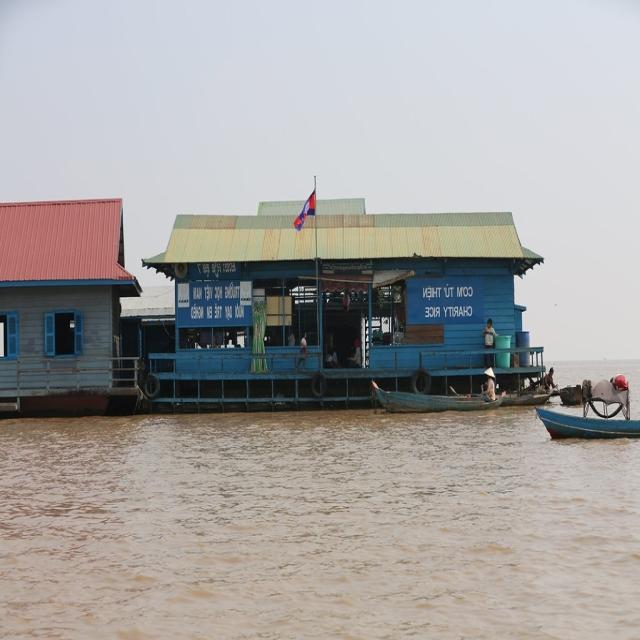boat: (355, 374, 569, 417)
